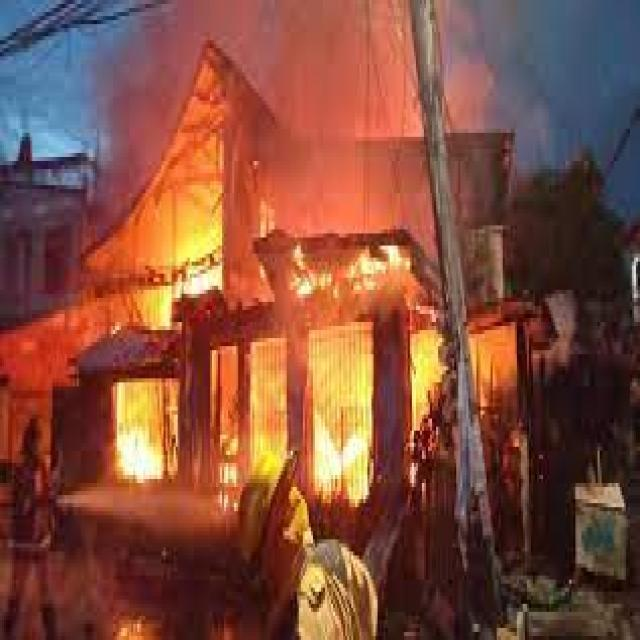Fire: (308, 338, 391, 507), (126, 168, 210, 311), (111, 384, 175, 494)
Smoke: (246, 0, 446, 227)
